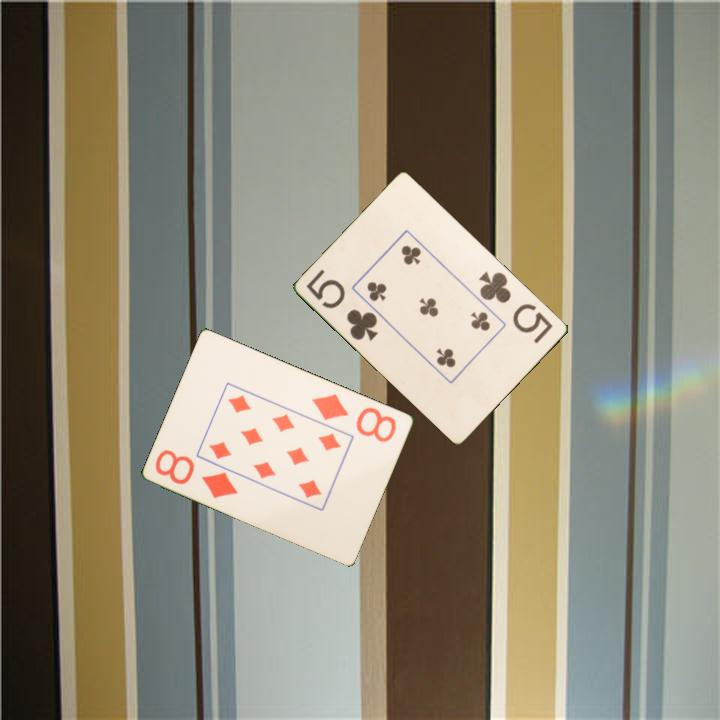5c: (475, 268, 556, 346), (303, 266, 382, 344)
8d: (308, 390, 400, 445), (152, 446, 241, 501)
